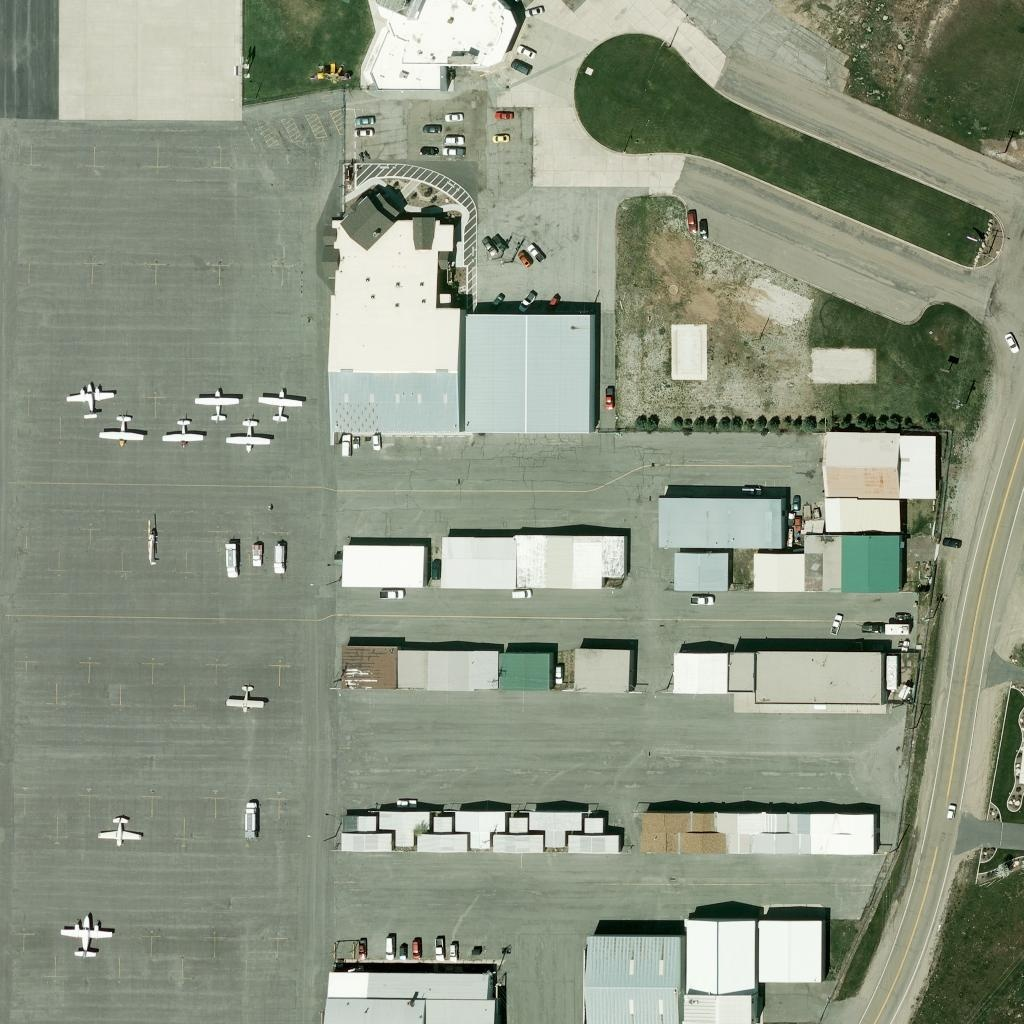plane: (59, 915, 113, 959), (64, 381, 117, 419), (96, 815, 142, 852), (194, 386, 240, 422), (225, 417, 271, 453), (258, 388, 304, 424), (159, 418, 204, 450), (99, 414, 145, 445), (224, 682, 264, 714)
